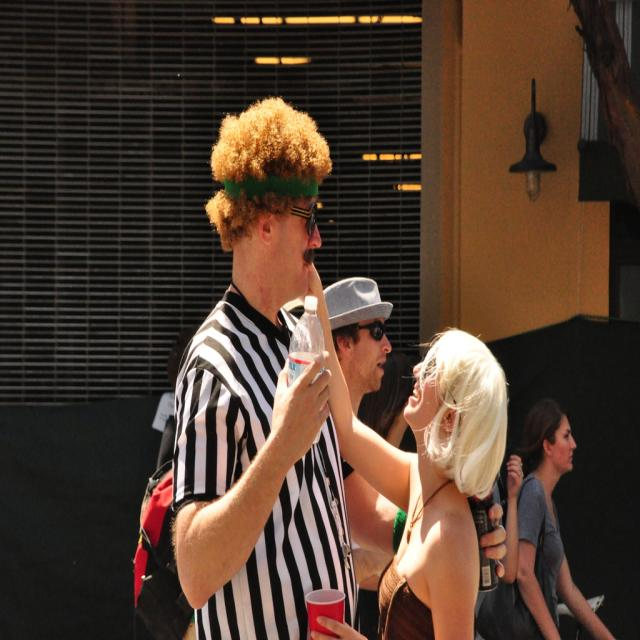Hat: (324, 274, 392, 340)
